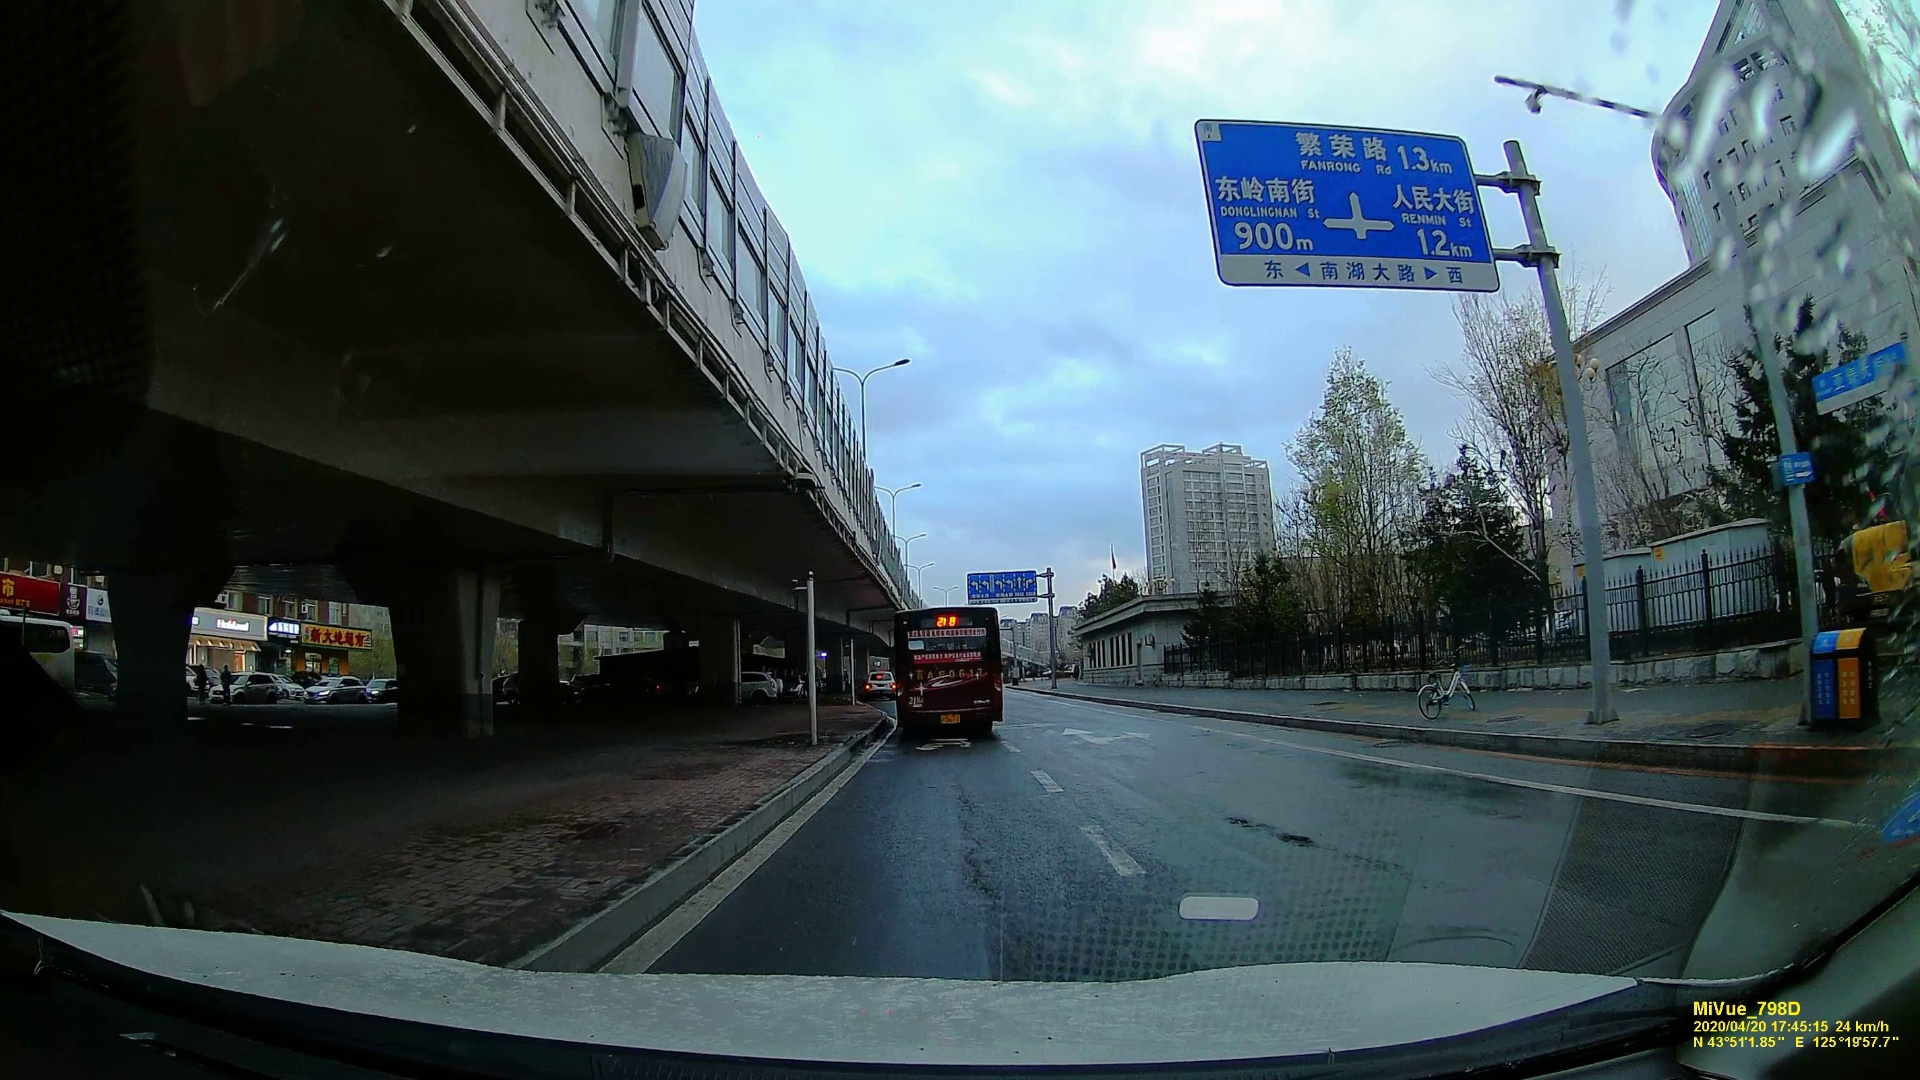bus: (894, 604, 1000, 740)
traffic_sign: (1230, 124, 1456, 291), (967, 574, 1034, 603)
vehicle: (866, 671, 891, 696)
